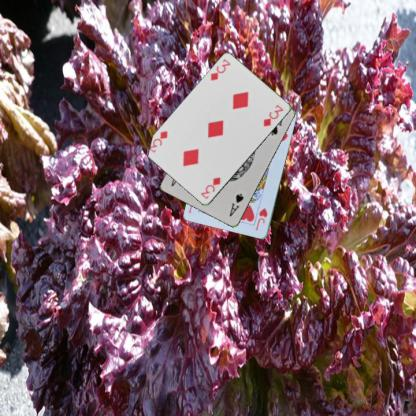3d: (198, 174, 222, 200), (208, 57, 232, 82)
As: (227, 191, 245, 218)
Jh: (253, 206, 269, 232)
